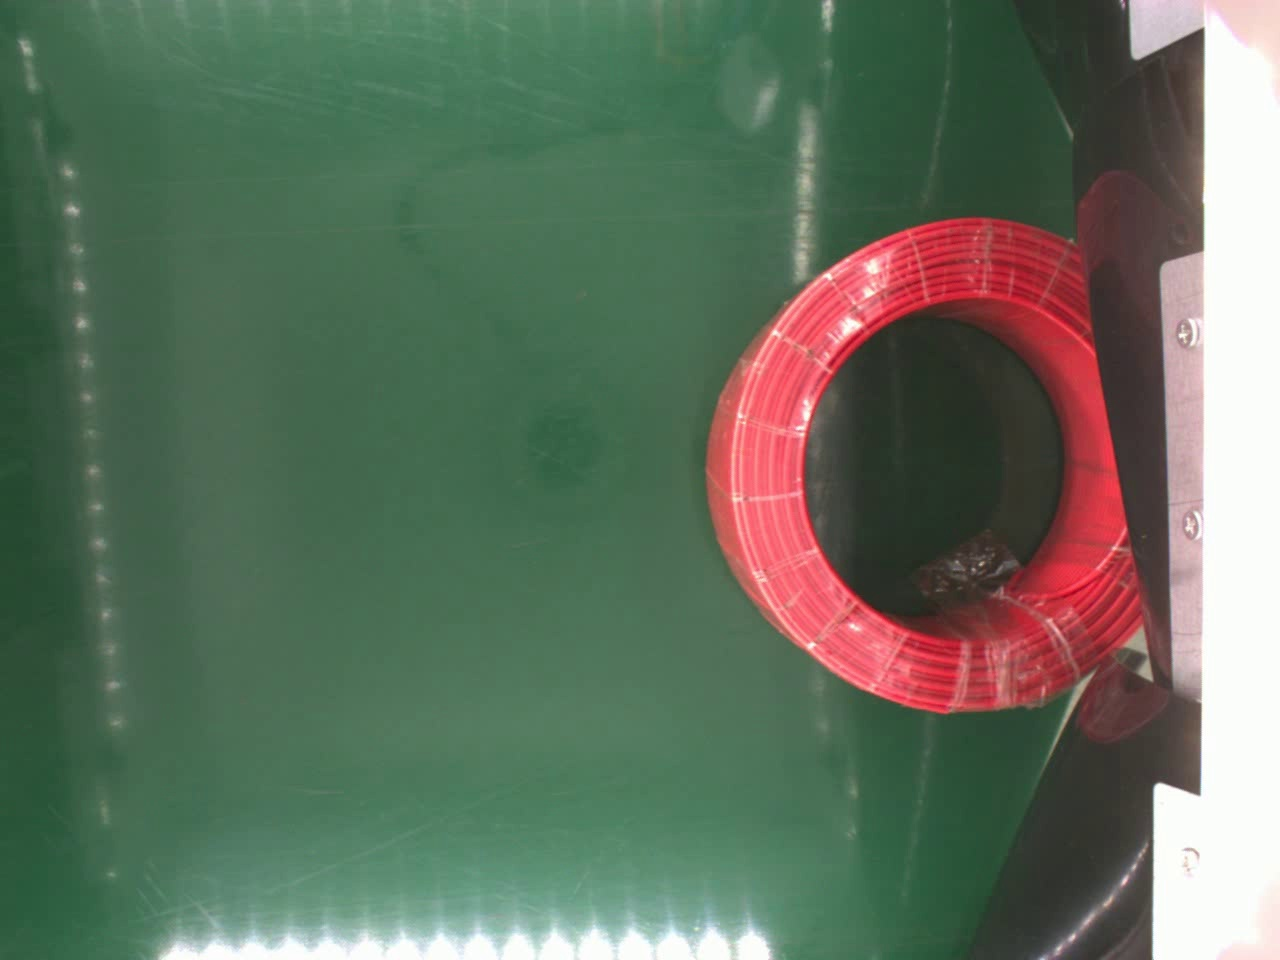red: (705, 219, 1144, 712)
